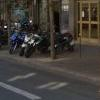Motorcycle: (8, 20, 75, 62)
